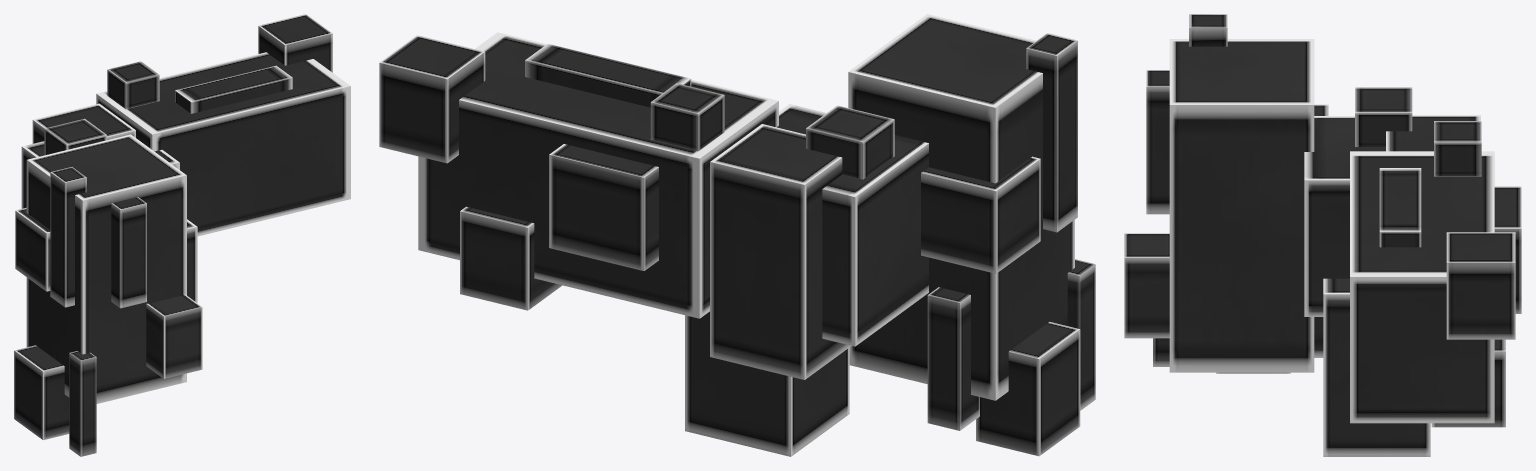
The model's file is GROUPBOX1.FBX.
3 renders of one model, left to right at view 1: azimuth 30°, elevation 25°; view 2: azimuth 150°, elevation 25°; view 3: azimuth 270°, elevation 25°, orthographic. The views are drawn at different scales.
Visible parts, largest first — view 1: GROUPBOX1; view 2: GROUPBOX1; view 3: GROUPBOX1.
Part boxes in pixels (bbox=[...]): GROUPBOX1: bbox=[14, 14, 350, 456]; GROUPBOX1: bbox=[379, 14, 1095, 456]; GROUPBOX1: bbox=[1124, 14, 1521, 456].
Size of the model in its own units: 558 by 372 by 392.
